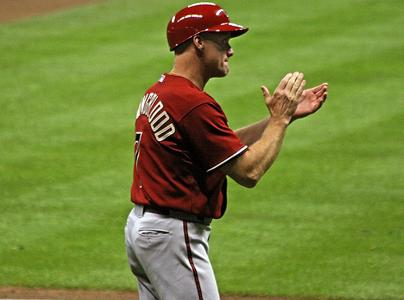person: (127, 2, 331, 300)
